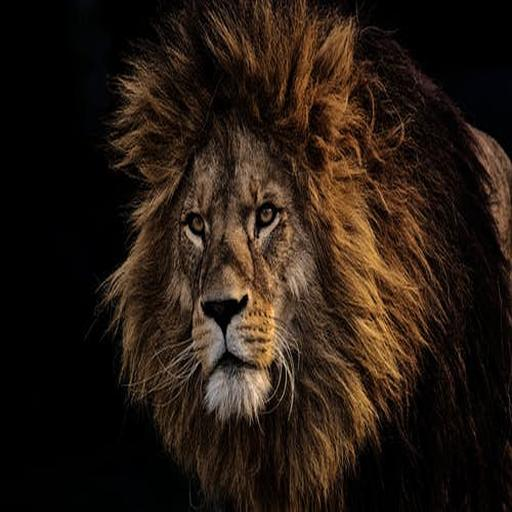Lion: (92, 0, 512, 510)
